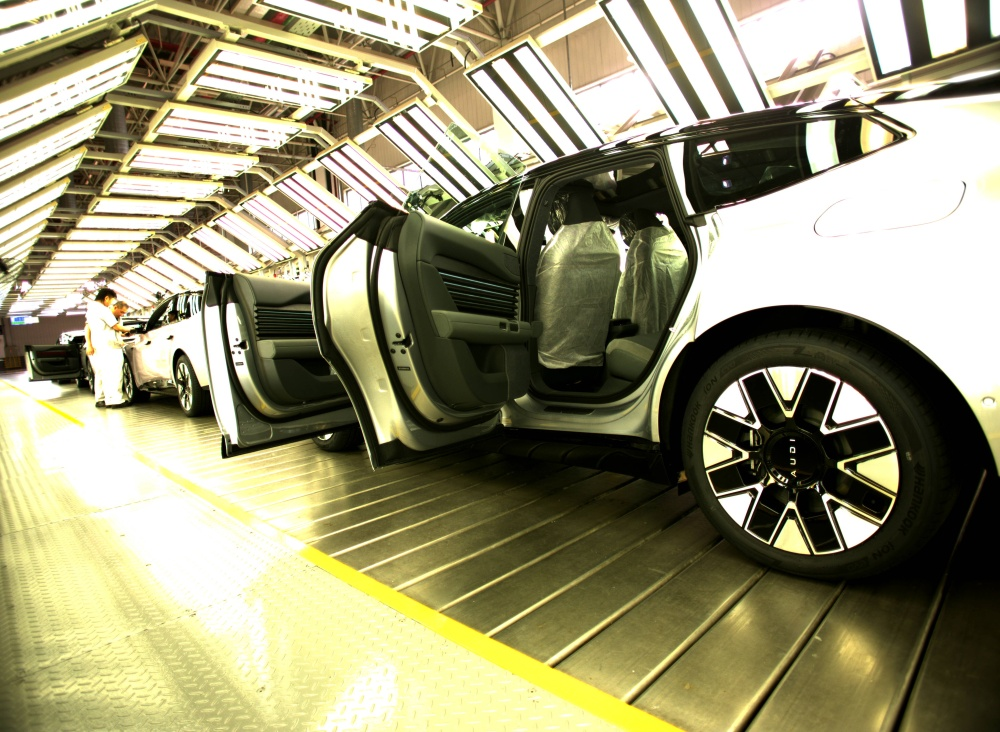armrest_color: (429, 308, 533, 345), (259, 338, 324, 358)
panel_color: (436, 265, 521, 321), (255, 306, 314, 338)
